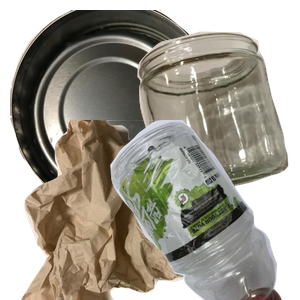glass: (135, 29, 300, 209)
metal: (10, 10, 221, 190)
plastic: (73, 120, 300, 300)
trash: (19, 120, 249, 300)
